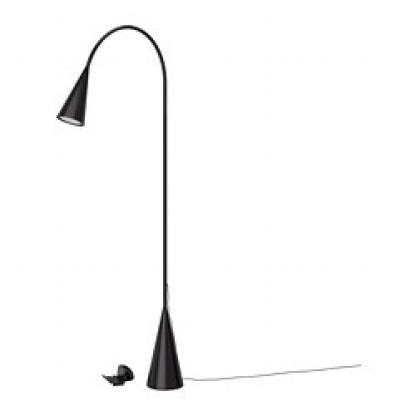Lamp: (50, 25, 196, 398)
